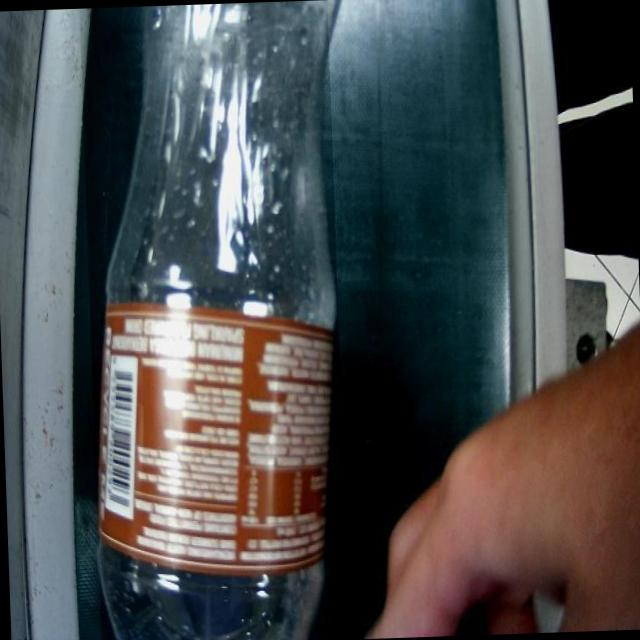BotolPlastik: (75, 0, 362, 640)
